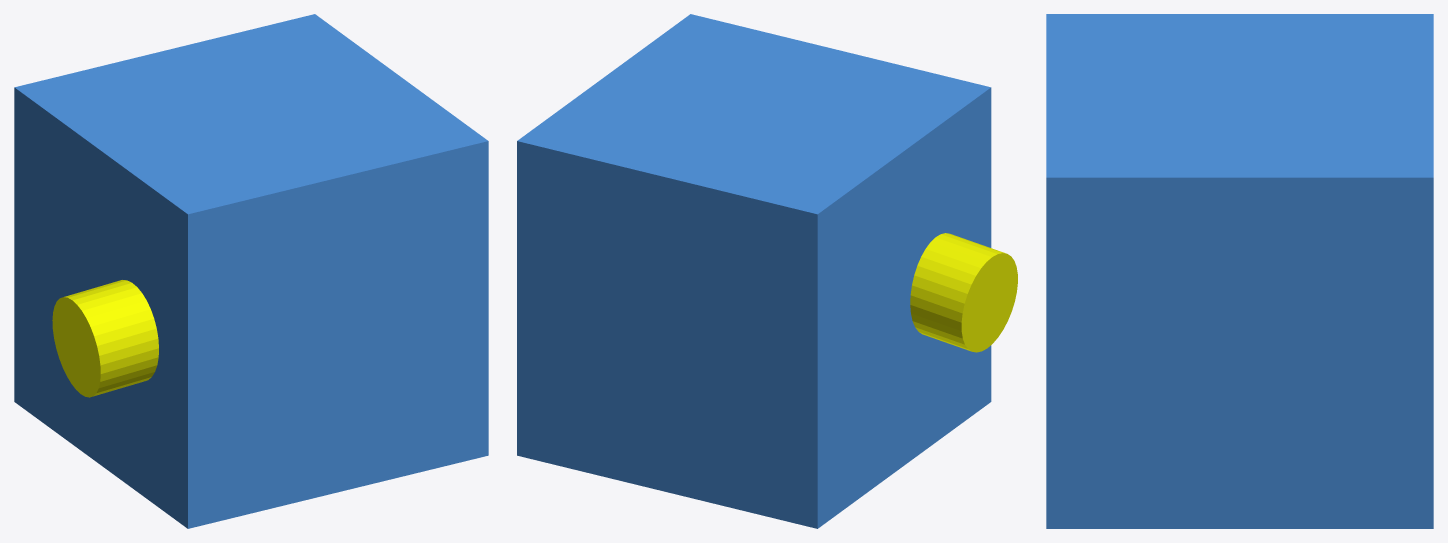
Rendered from licht5.glb.
The picture shows the model from 3 angles, left to right: view 1: azimuth 30°, elevation 25°; view 2: azimuth 150°, elevation 25°; view 3: azimuth 270°, elevation 25°; orthographic projection. The views are drawn at different scales.
Parts seen in each view (by area): view 1: Cube, Zylinder; view 2: Cube, Zylinder; view 3: Cube.
Part boxes in pixels (x1,y1,x2,y2): Cube: [14, 14, 488, 528]; Zylinder: [52, 280, 158, 397]; Cube: [517, 14, 991, 528]; Zylinder: [910, 233, 1017, 352]; Cube: [1046, 14, 1433, 528].
Bounding box in the file's own units: 2.39 × 2 × 2.
